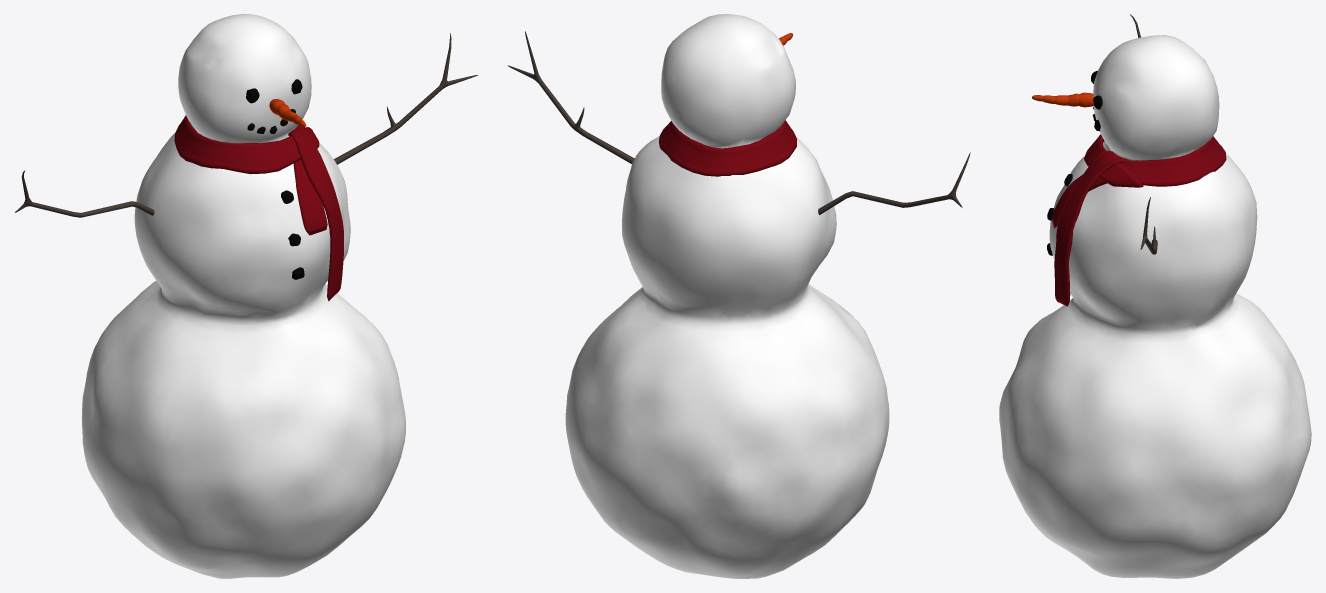
Rendered from snowman.glb.
The picture shows the model from 3 angles, left to right: view 1: azimuth 30°, elevation 25°; view 2: azimuth 150°, elevation 25°; view 3: azimuth 270°, elevation 25°; orthographic projection. The views are drawn at different scales.
Parts seen in each view (by area): view 1: Body1, Scarf1, Arms1, Coals1; view 2: Body1, Scarf1, Arms1; view 3: Body1, Scarf1, Nose1, Coals1, Arms1.
Boxes of the visible parts, x1,y1,x2,y2 form: Body1: [81, 14, 405, 578]; Scarf1: [174, 115, 343, 301]; Arms1: [15, 33, 477, 217]; Coals1: [246, 79, 304, 279]; Body1: [565, 14, 889, 578]; Scarf1: [659, 120, 796, 176]; Arms1: [508, 31, 970, 214]; Body1: [999, 35, 1311, 578]; Scarf1: [1052, 134, 1226, 306]; Nose1: [1032, 92, 1093, 107]; Coals1: [1047, 70, 1102, 255]; Arms1: [1130, 14, 1157, 254].
Bounding box in the file's own units: 0.8891 × 1 × 0.5414.
5 materials, 3 textured.
